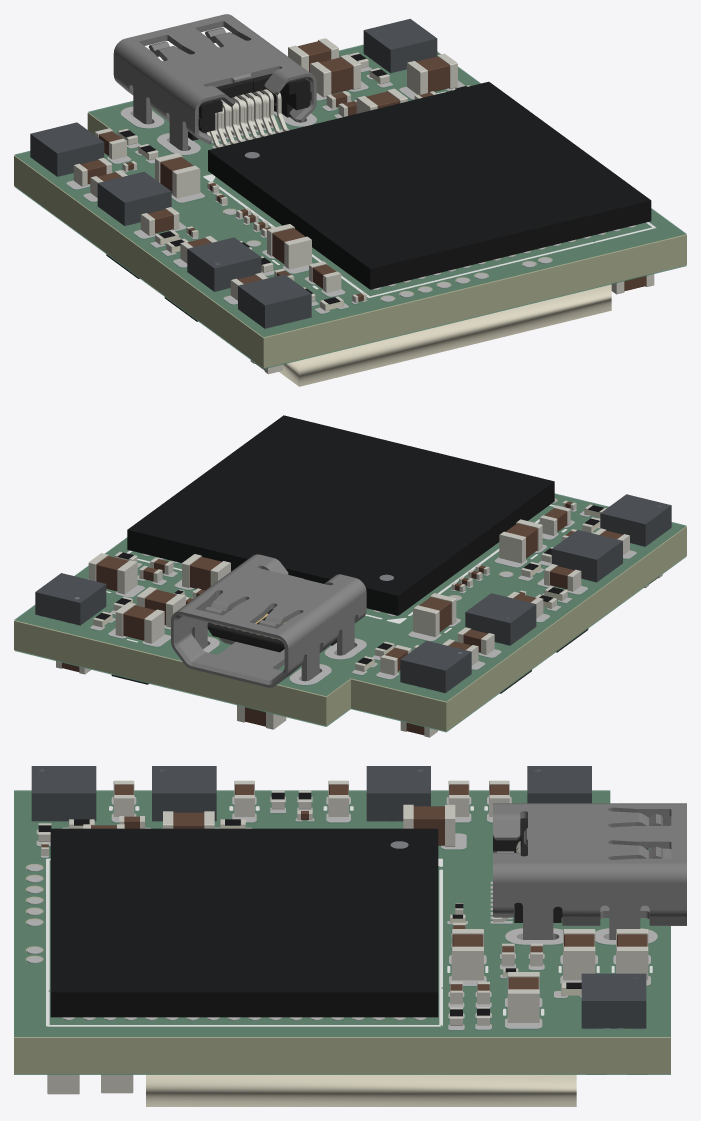
File: frontend-v29.glb
3 renders of one model, top to bottom at view 1: azimuth 30°, elevation 25°; view 2: azimuth 150°, elevation 25°; view 3: azimuth 270°, elevation 25°, orthographic. The views are drawn at different scales.
Visible parts, largest first — view 1: CSG325_Body, =>[0:1:1:397], =>[0:1:1:395], =>[0:1:1:360], =>[0:1:1:11] (×5), =>[0:1:1:374], =>[0:1:1:5] (×6), =>[0:1:1:392], =>[0:1:1:358] (×4), =>[0:1:1:396], =>[0:1:1:393]; view 2: CSG325_Body, =>[0:1:1:397], =>[0:1:1:360], =>[0:1:1:395], =>[0:1:1:11] (×5), =>[0:1:1:5] (×7), =>[0:1:1:392], =>[0:1:1:358] (×4), =>[0:1:1:396]; view 3: CSG325_Body, =>[0:1:1:397], =>[0:1:1:395], =>[0:1:1:360], =>[0:1:1:11] (×5), =>[0:1:1:376], =>[0:1:1:5] (×8), =>[0:1:1:392], =>[0:1:1:358] (×5), =>[0:1:1:393], =>[0:1:1:396].
Part boxes in pixels (<box>): CSG325_Body: <box>208,81,651,289</box>; =>[0:1:1:397]: <box>14,46,686,368</box>; =>[0:1:1:395]: <box>14,44,686,337</box>; =>[0:1:1:360]: <box>113,14,316,150</box>; =>[0:1:1:11] (×5): <box>30,18,437,328</box>; =>[0:1:1:374]: <box>279,284,611,386</box>; =>[0:1:1:5] (×6): <box>155,38,457,269</box>; =>[0:1:1:392]: <box>66,66,634,325</box>; =>[0:1:1:358] (×4): <box>73,128,341,292</box>; =>[0:1:1:396]: <box>14,186,686,369</box>; =>[0:1:1:393]: <box>203,91,656,297</box>; CSG325_Body: <box>127,415,554,615</box>; =>[0:1:1:397]: <box>14,495,686,731</box>; =>[0:1:1:360]: <box>171,554,366,687</box>; =>[0:1:1:395]: <box>14,493,686,701</box>; =>[0:1:1:11] (×5): <box>35,494,671,692</box>; =>[0:1:1:5] (×7): <box>88,519,542,729</box>; =>[0:1:1:392]: <box>41,499,636,689</box>; =>[0:1:1:358] (×4): <box>380,505,581,675</box>; =>[0:1:1:396]: <box>14,556,686,732</box>; CSG325_Body: <box>50,828,438,1017</box>; =>[0:1:1:397]: <box>14,792,670,1073</box>; =>[0:1:1:395]: <box>14,790,670,1036</box>; =>[0:1:1:360]: <box>493,803,686,939</box>; =>[0:1:1:11] (×5): <box>31,766,646,1028</box>; =>[0:1:1:376]: <box>146,1074,576,1106</box>; =>[0:1:1:5] (×8): <box>47,804,648,1094</box>; =>[0:1:1:392]: <box>27,796,657,1030</box>; =>[0:1:1:358] (×5): <box>113,780,509,816</box>; =>[0:1:1:393]: <box>46,806,652,1026</box>; =>[0:1:1:396]: <box>14,1074,670,1074</box>.
Size of the model in its own units: 0.0226 by 0.00602 by 0.026.
